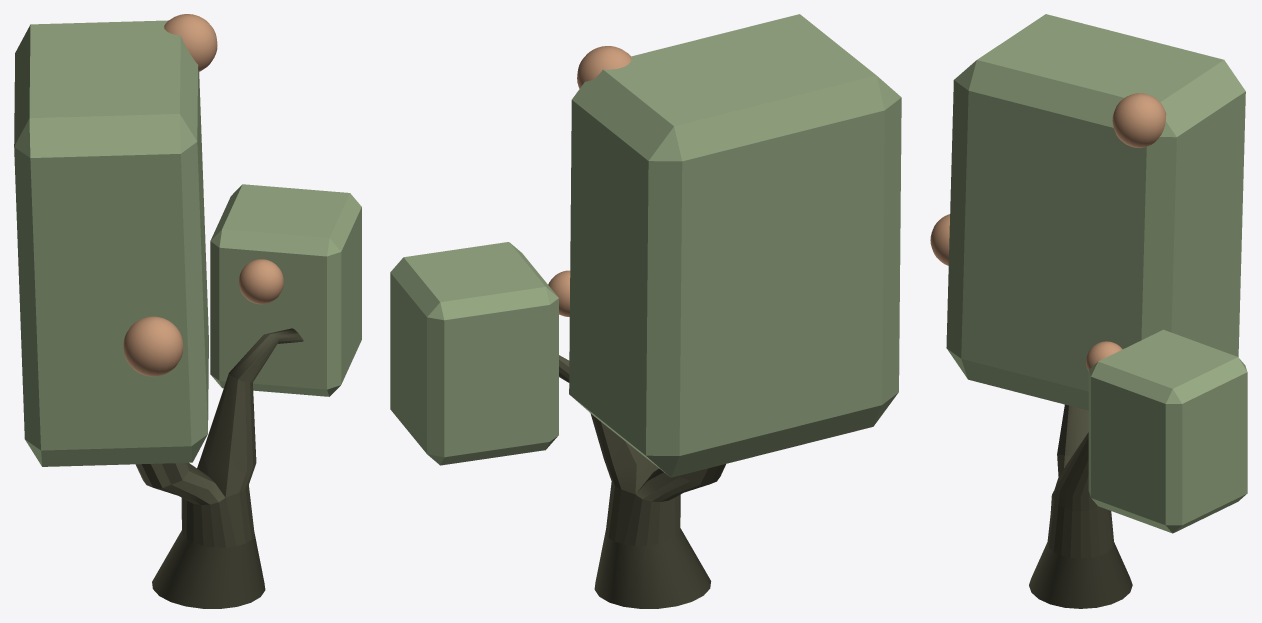
File: Tree3AppleDark.fbx
3 renders of one model, left to right at view 1: azimuth 30°, elevation 25°; view 2: azimuth 150°, elevation 25°; view 3: azimuth 270°, elevation 25°, orthographic. The views are drawn at different scales.
Visible parts, largest first — view 1: pasted__pasted__pCube42, pasted__pasted__pCube41, pasted__pasted__pasted__pCylinder4, ForEdit7:pSphere7, pasted__pSphere7, pasted__pSphere9; view 2: pasted__pasted__pCube42, pasted__pasted__pCube41, pasted__pasted__pasted__pCylinder4, pasted__pSphere7; view 3: pasted__pasted__pCube42, pasted__pasted__pCube41, pasted__pasted__pasted__pCylinder4, pasted__pSphere7, ForEdit7:pSphere7, pasted__pSphere9.
Boxes of the visible parts, <box> form: pasted__pasted__pCube42: <box>14,20,208,466</box>; pasted__pasted__pCube41: <box>210,184,361,396</box>; pasted__pasted__pasted__pCylinder4: <box>135,328,303,608</box>; ForEdit7:pSphere7: <box>123,316,183,376</box>; pasted__pSphere7: <box>164,14,217,71</box>; pasted__pSphere9: <box>239,259,283,304</box>; pasted__pasted__pCube42: <box>569,14,901,477</box>; pasted__pasted__pCube41: <box>390,242,558,465</box>; pasted__pasted__pasted__pCylinder4: <box>559,355,725,608</box>; pasted__pSphere7: <box>577,46,631,88</box>; pasted__pasted__pCube42: <box>946,14,1245,410</box>; pasted__pasted__pCube41: <box>1088,329,1247,533</box>; pasted__pasted__pasted__pCylinder4: <box>1029,404,1132,608</box>; pasted__pSphere7: <box>1112,93,1166,147</box>; ForEdit7:pSphere7: <box>930,214,949,265</box>; pasted__pSphere9: <box>1086,341,1122,371</box>.
Size of the model in its own units: 2.84 by 3.6 by 2.09.
